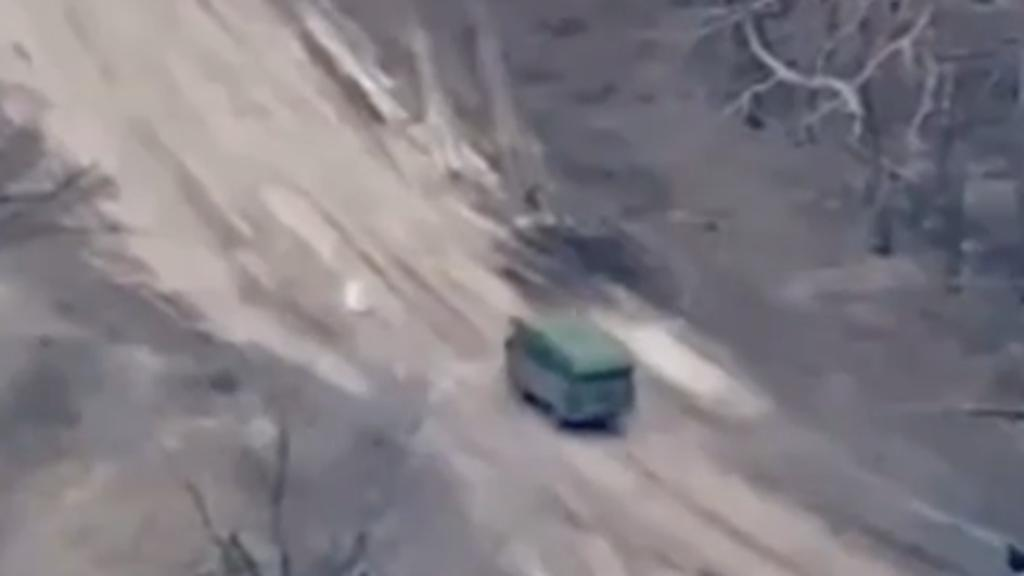CAR: (500, 301, 636, 432)
